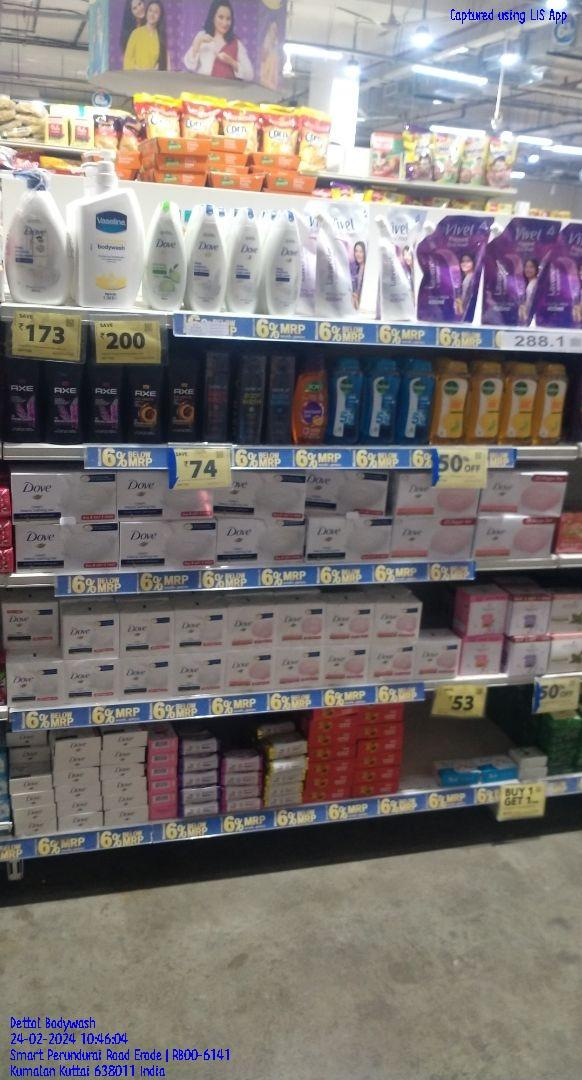Dettol_Bodywash_Cool: (365, 359, 398, 447), (331, 357, 362, 445), (402, 360, 432, 444)
Dettol_Bodywash_Refresh: (435, 361, 467, 441), (536, 363, 567, 445), (505, 361, 535, 445), (472, 362, 502, 445)
Joy_Shower_Gel_Mandarin_and_Lemongrass_250ML: (295, 353, 328, 445)
